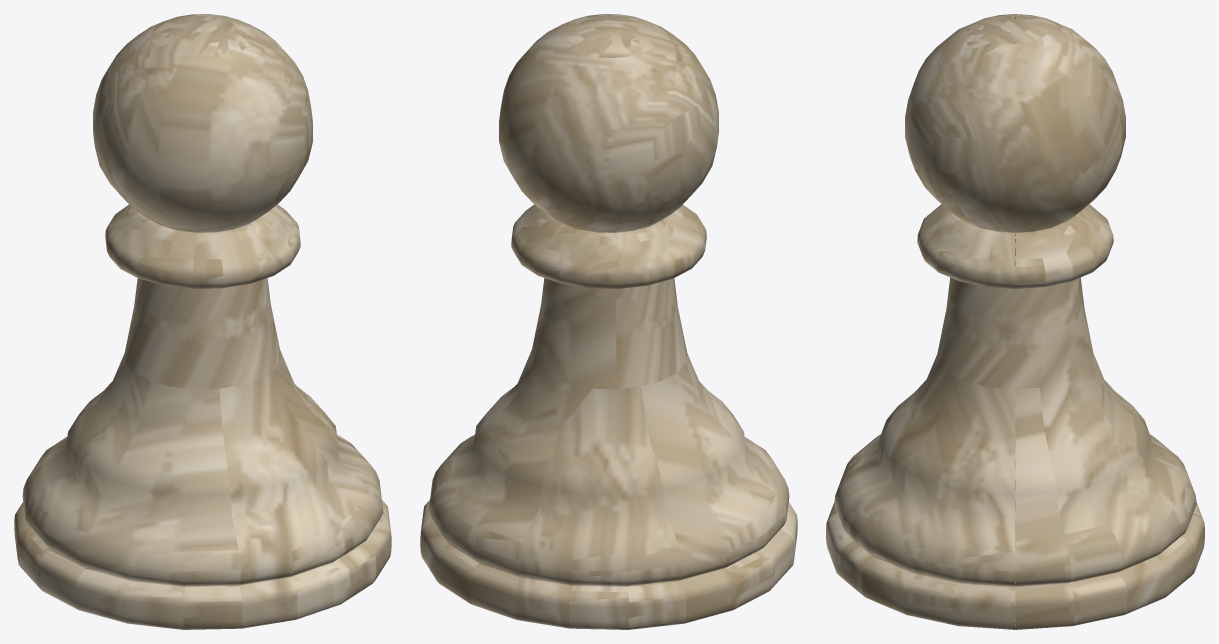
File: Pawn.obj
3 renders of one model, left to right at view 1: azimuth 30°, elevation 25°; view 2: azimuth 150°, elevation 25°; view 3: azimuth 270°, elevation 25°, orthographic.
Visible parts, largest first — view 1: chess.007; view 2: chess.007; view 3: chess.007.
Part boxes in pixels (x1=…): chess.007: x1=14, y1=14, x2=391, y2=629; chess.007: x1=420, y1=14, x2=797, y2=629; chess.007: x1=826, y1=14, x2=1204, y2=629.
Bounding box in the file's own units: 0.6498 × 1 × 0.6498.
